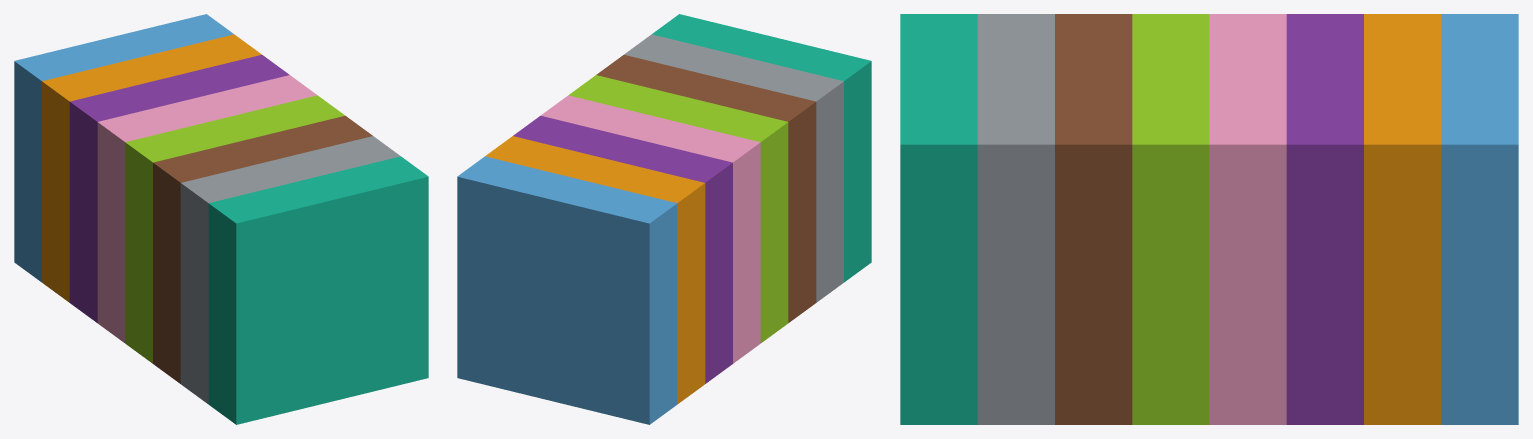
Rendered from stacked_colours.obj.
The picture shows the model from 3 angles, left to right: view 1: azimuth 30°, elevation 25°; view 2: azimuth 150°, elevation 25°; view 3: azimuth 270°, elevation 25°; orthographic projection. The views are drawn at different scales.
Bounding box in the file's own units: 20 × 20 × 40.
